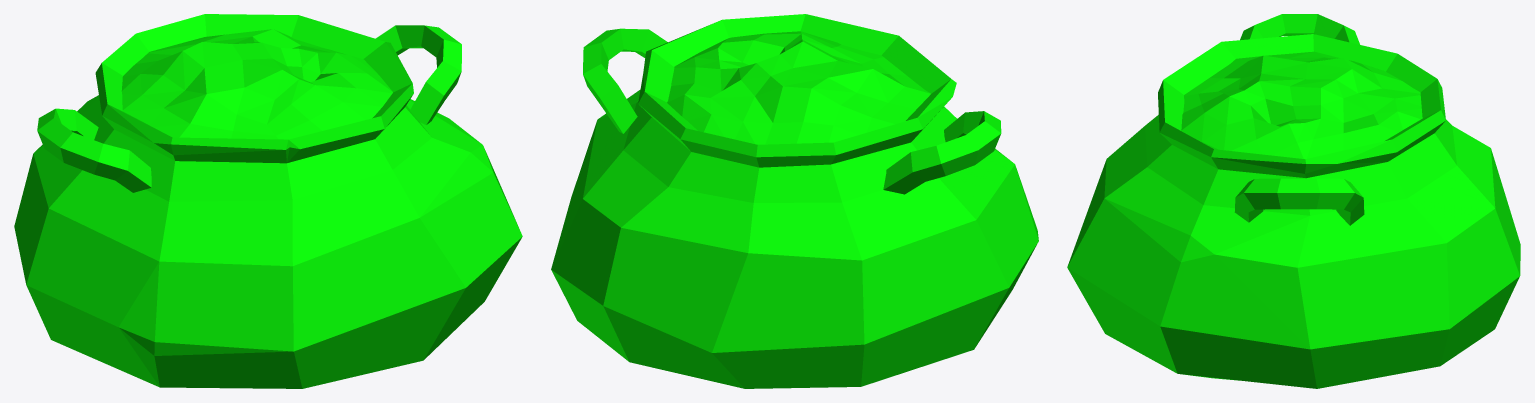
Rendered from SM_Vase_Short_Spice_Fantasy.fbx.
3 renders of one model, left to right at view 1: azimuth 30°, elevation 25°; view 2: azimuth 150°, elevation 25°; view 3: azimuth 270°, elevation 25°, orthographic. The views are drawn at different scales.
Parts seen in each view (by area): view 1: vase-short-spice-fantasy; view 2: vase-short-spice-fantasy; view 3: vase-short-spice-fantasy.
Part boxes in pixels (x1,y1,x2,y2): vase-short-spice-fantasy: (14,14,522,388); vase-short-spice-fantasy: (551,14,1038,388); vase-short-spice-fantasy: (1067,14,1520,388).
Bounding box in the file's own units: 0.5864 × 0.341 × 0.565.
